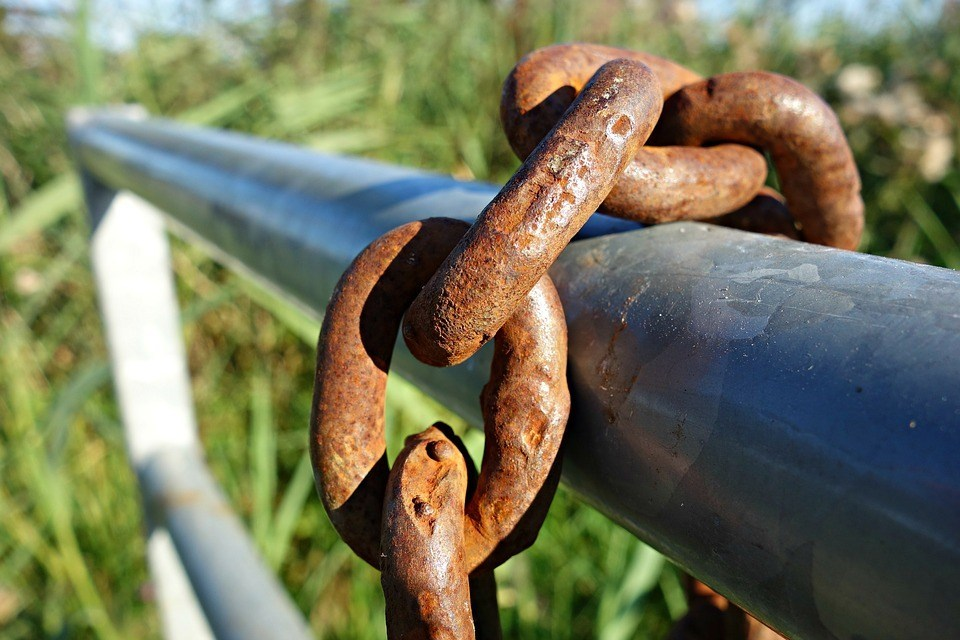rust: (430, 42, 654, 354), (699, 81, 873, 227), (377, 450, 483, 629), (307, 279, 364, 527)
